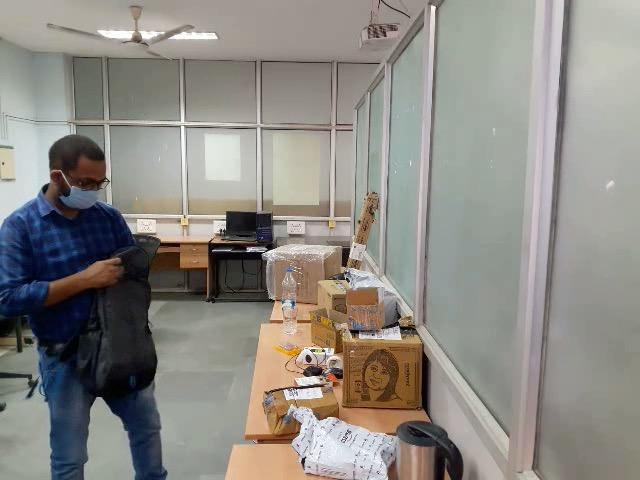shoplifting: (64, 234, 165, 398)
